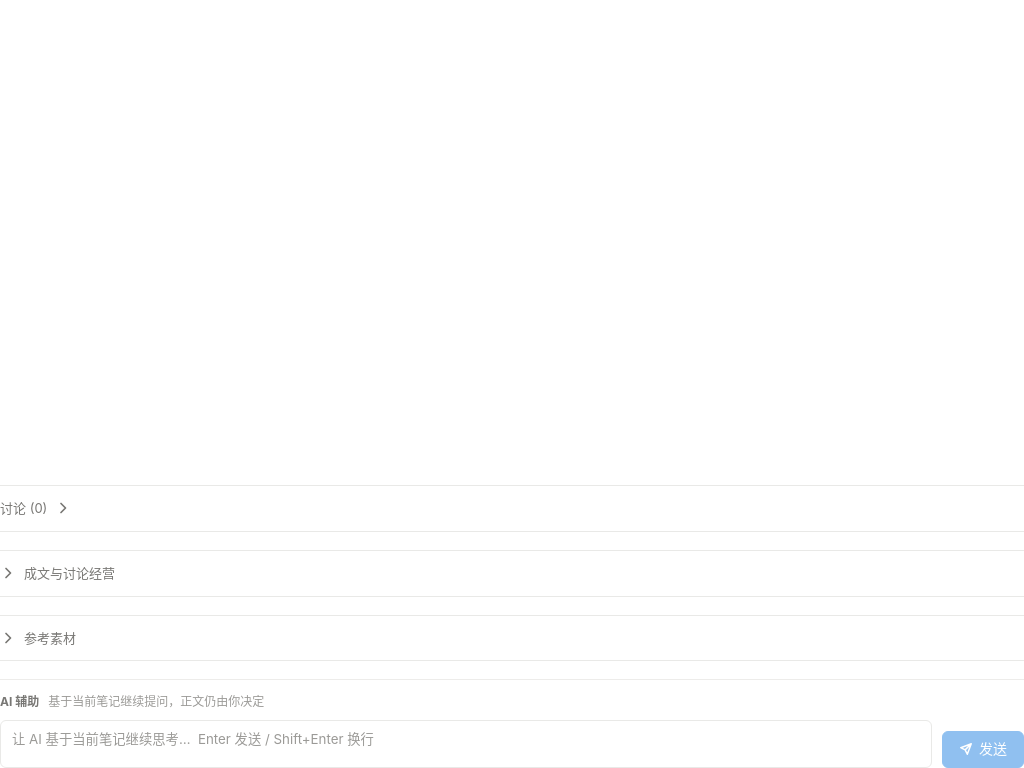
Test: MainDoc fork flow › accepts a route candidate, migrates the answer, and refreshes subdocTabs
This screenshot has width=1024, height=768.
(page scrolled)
Type "缓存怎么分层？" into the text box named "chat-input" at {"x": 466, "y": 744}, box [0,720,932,767]
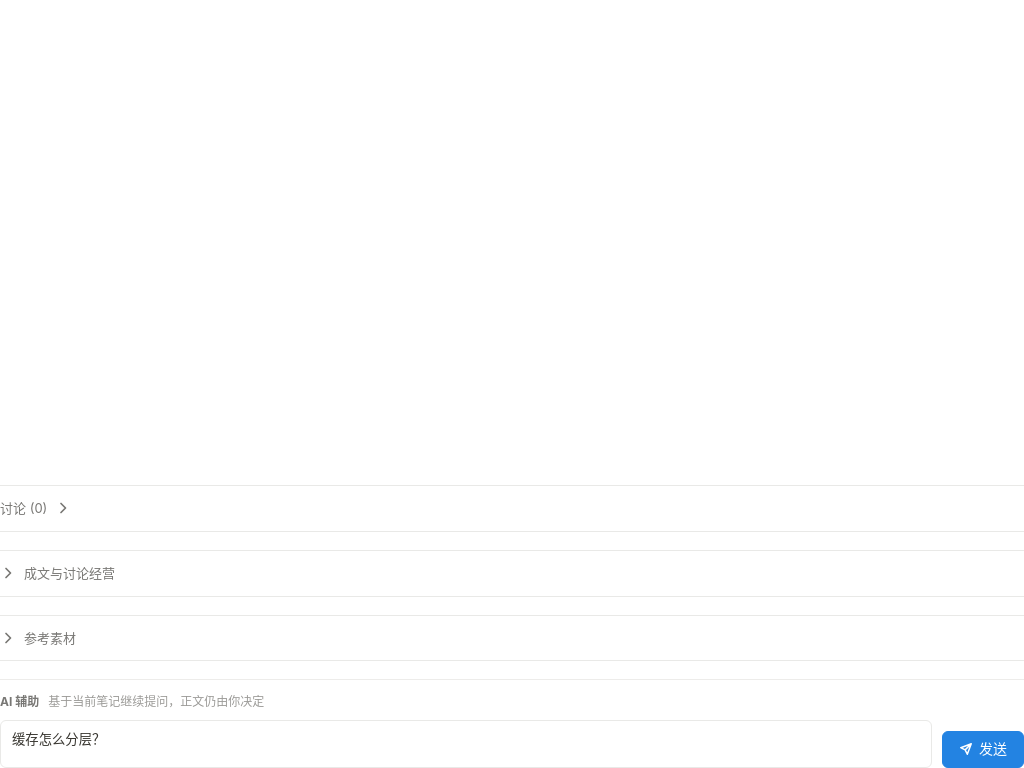
Click the button "发送" at {"x": 983, "y": 749}, box [942,731,1023,767]
(page scrolled)
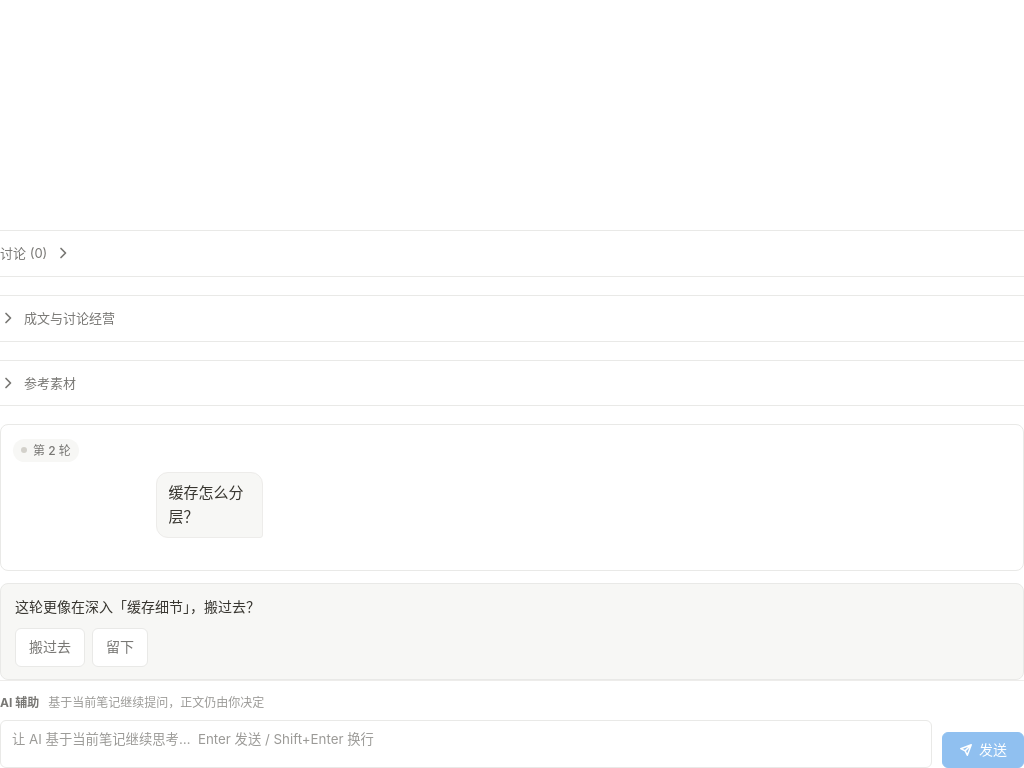
Click the button "搬过去" at {"x": 50, "y": 648}, box [15,628,85,667]
(page scrolled)
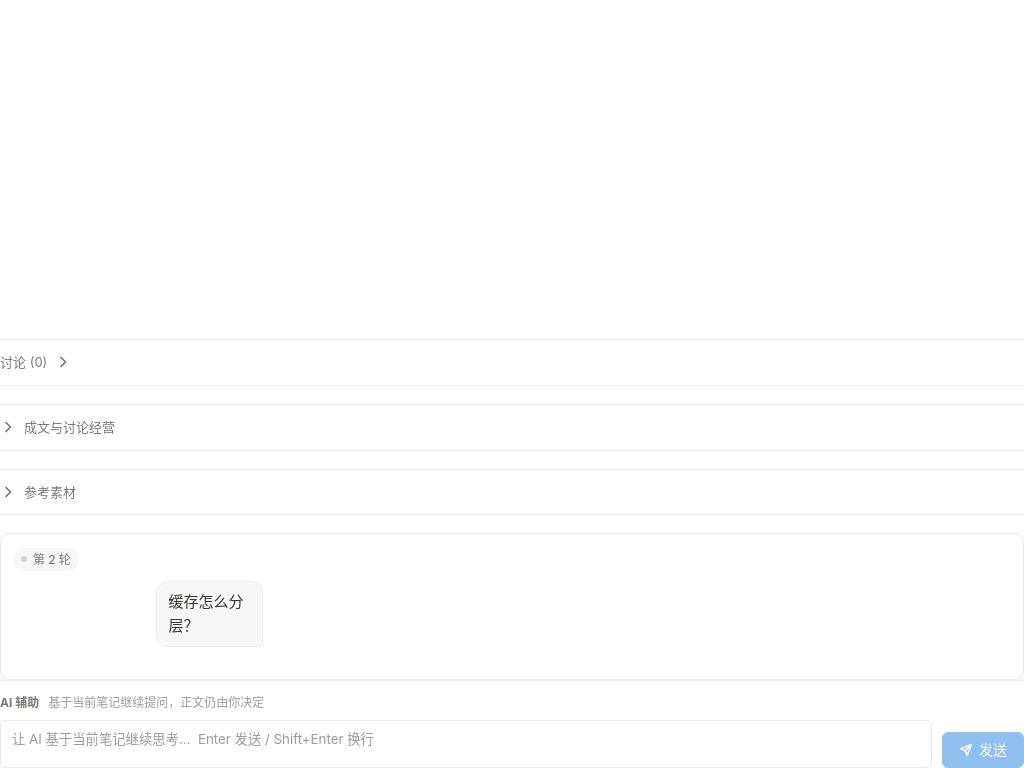
Result: the message "搬过去" is gone
